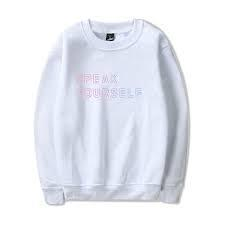sweater: (18, 14, 199, 209)
